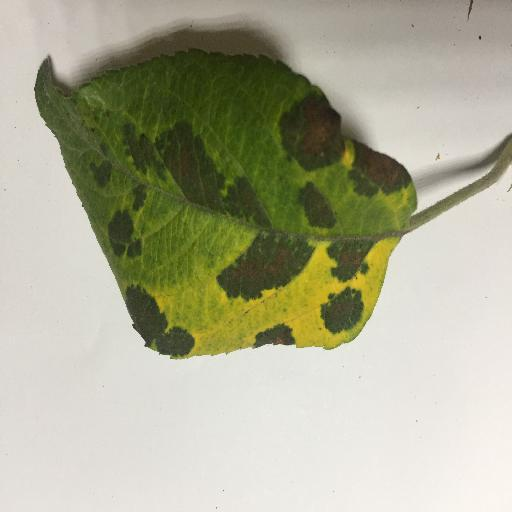Brown_Spot: (216, 241, 298, 291), (154, 129, 214, 182), (289, 104, 334, 160), (348, 147, 406, 188), (317, 298, 354, 329), (218, 186, 258, 214), (311, 194, 337, 229), (328, 245, 361, 268), (261, 337, 296, 349)
